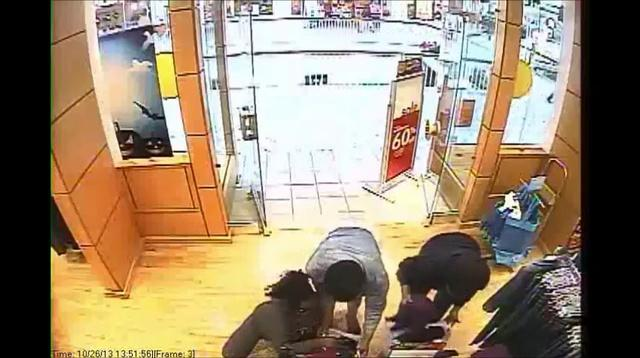Product: (403, 294, 438, 334)
Product-Picked: (387, 234, 500, 358)
Regular: (228, 267, 333, 358), (295, 217, 394, 302)
